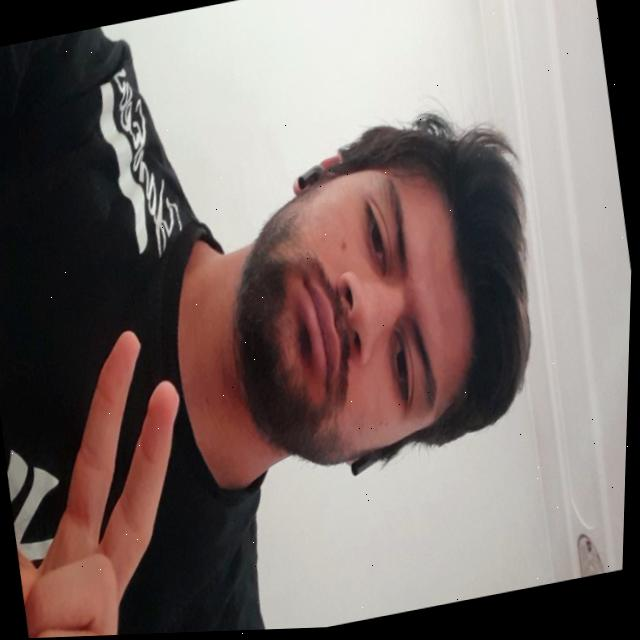Head: (190, 92, 570, 513)
Two: (0, 312, 226, 640)
